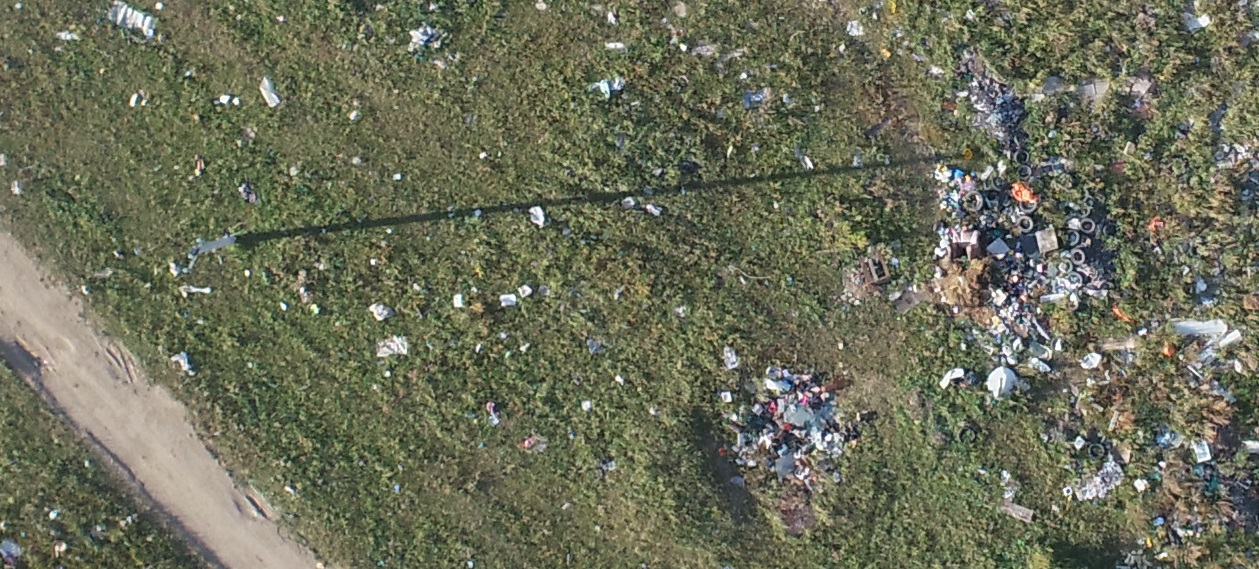opora: (178, 222, 325, 272)
